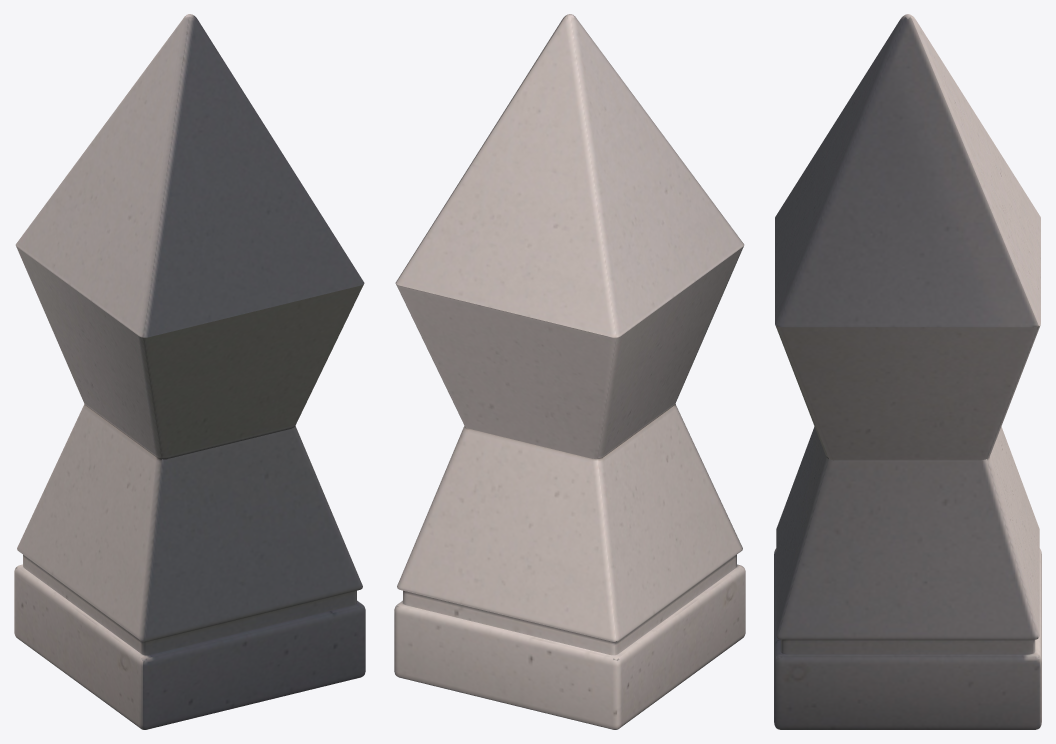
The model's file is w-bishop.glb.
The picture shows the model from 3 angles, left to right: view 1: azimuth 30°, elevation 25°; view 2: azimuth 150°, elevation 25°; view 3: azimuth 270°, elevation 25°; orthographic projection. The views are drawn at different scales.
Parts seen in each view (by area): view 1: w-bishop; view 2: w-bishop; view 3: w-bishop.
Boxes of the visible parts, <box> form: w-bishop: <box>14,14,365,729</box>; w-bishop: <box>394,14,745,729</box>; w-bishop: <box>774,14,1041,729</box>.
Size of the model in its own units: 0.4099 by 1.12 by 0.4099.
Materials: 1 (1 with a texture image).
